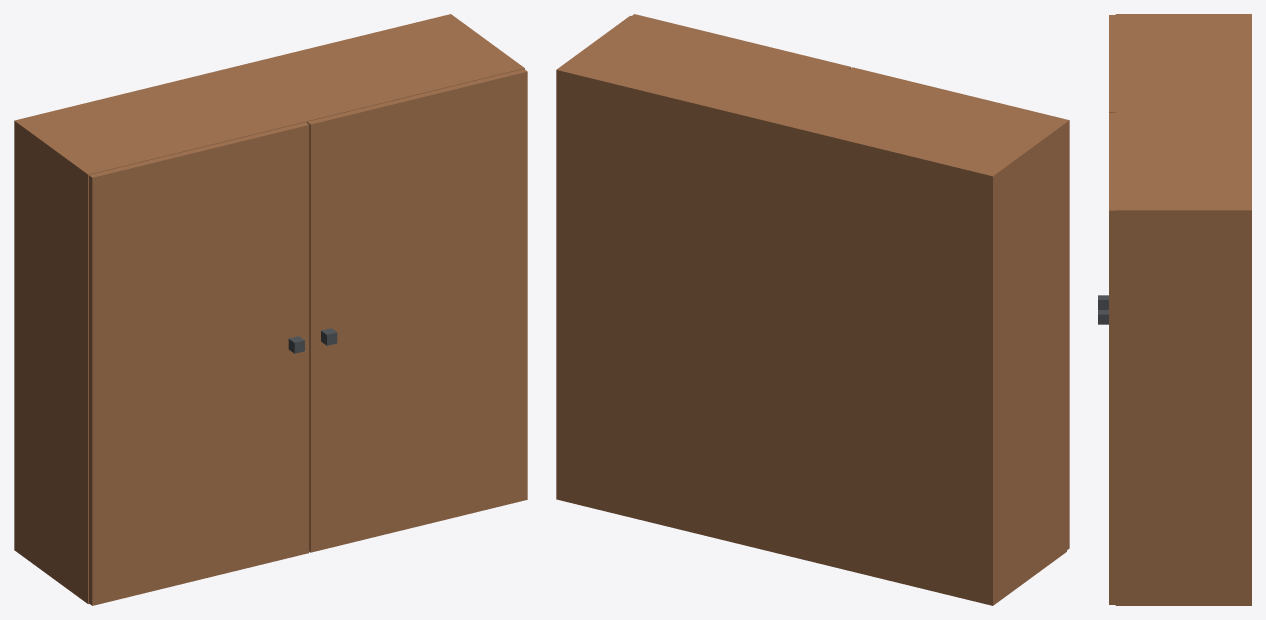
3 views of the same model, side by side, from view 1: azimuth 30°, elevation 25°; view 2: azimuth 150°, elevation 25°; view 3: azimuth 270°, elevation 25° (orthographic). The views are drawn at different scales.
Parts seen in each view (by area): view 1: panel_left, panel_right, side_left, top; view 2: back, side_left, top, side_right, bottom, panel_left, panel_right; view 3: side_right, top, panel_right, panel_left, side_left.
Boxes of the visible parts, box(x1,y1,x2,y2) form: panel_left: box(89, 122, 309, 605); panel_right: box(307, 69, 527, 552); side_left: box(14, 119, 94, 604); top: box(21, 15, 518, 173); back: box(562, 78, 986, 597); side_left: box(986, 121, 1066, 605); top: box(562, 17, 1060, 181); side_right: box(556, 15, 635, 500); bottom: box(562, 494, 986, 604); panel_left: box(850, 67, 1069, 549); panel_right: box(632, 14, 851, 69); side_right: box(1115, 207, 1251, 605); top: box(1115, 16, 1251, 207); panel_right: box(1109, 113, 1115, 604); panel_left: box(1109, 15, 1115, 112); side_left: box(1115, 14, 1251, 16).
Size of the model in its own units: 1.27 by 1.19 by 0.419.
